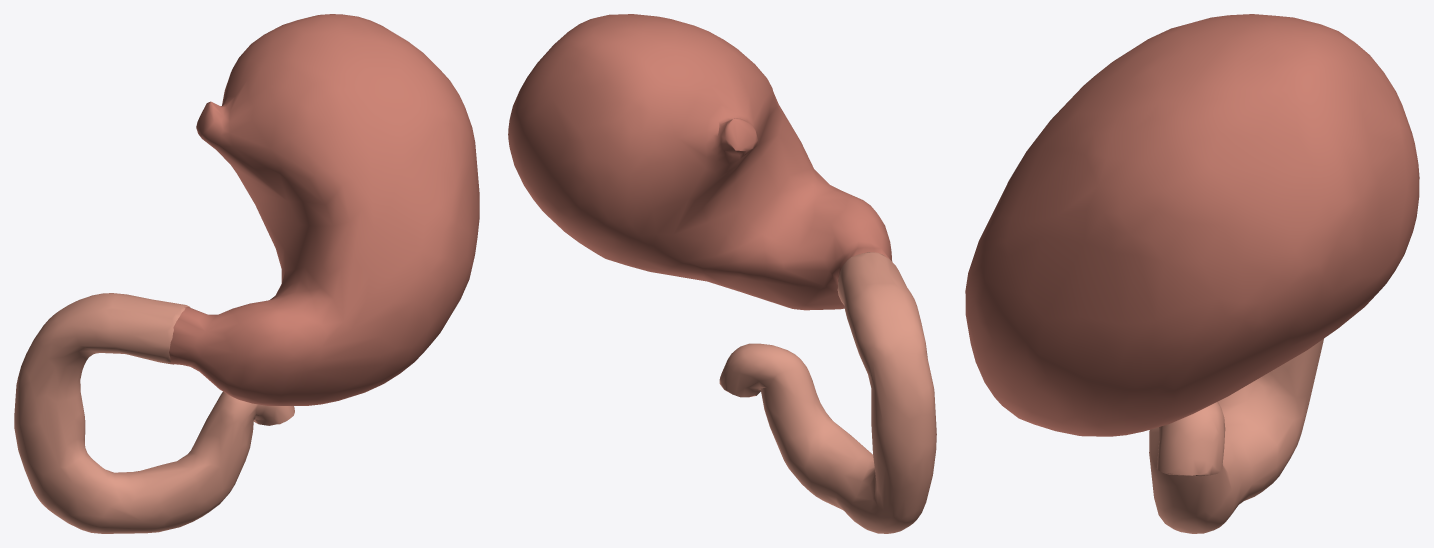
File: stomach.glb
3 views of the same model, side by side, from view 1: azimuth 30°, elevation 25°; view 2: azimuth 150°, elevation 25°; view 3: azimuth 270°, elevation 25° (orthographic). The views are drawn at different scales.
Visible parts, largest first — view 1: Stomach, Duodenum; view 2: Stomach, Duodenum; view 3: Stomach, Duodenum.
Part boxes in pixels (left/top/right/bottom): Stomach: left=169, top=14, right=479, bottom=405; Duodenum: left=14, top=293, right=294, bottom=533; Stomach: left=508, top=14, right=892, bottom=310; Duodenum: left=719, top=252, right=936, bottom=533; Stomach: left=965, top=14, right=1419, bottom=436; Duodenum: left=1149, top=339, right=1323, bottom=533.
Bounding box in the file's own units: 2.4 × 2.4 × 1.58.
